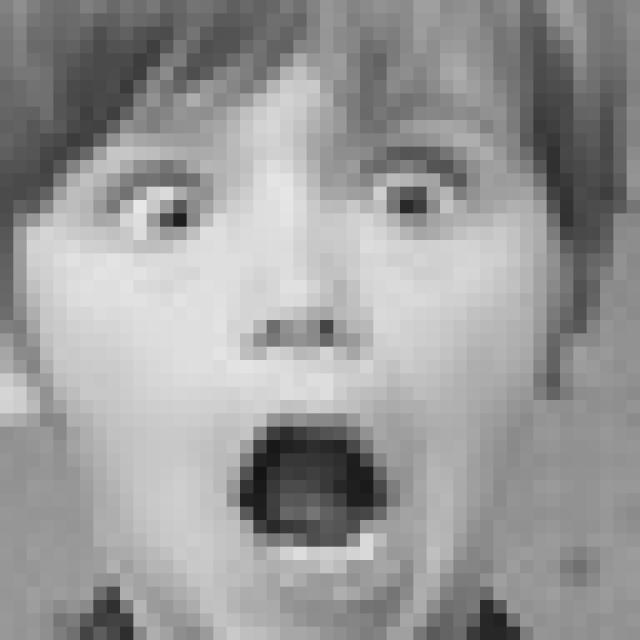surprise: (75, 86, 519, 625)
